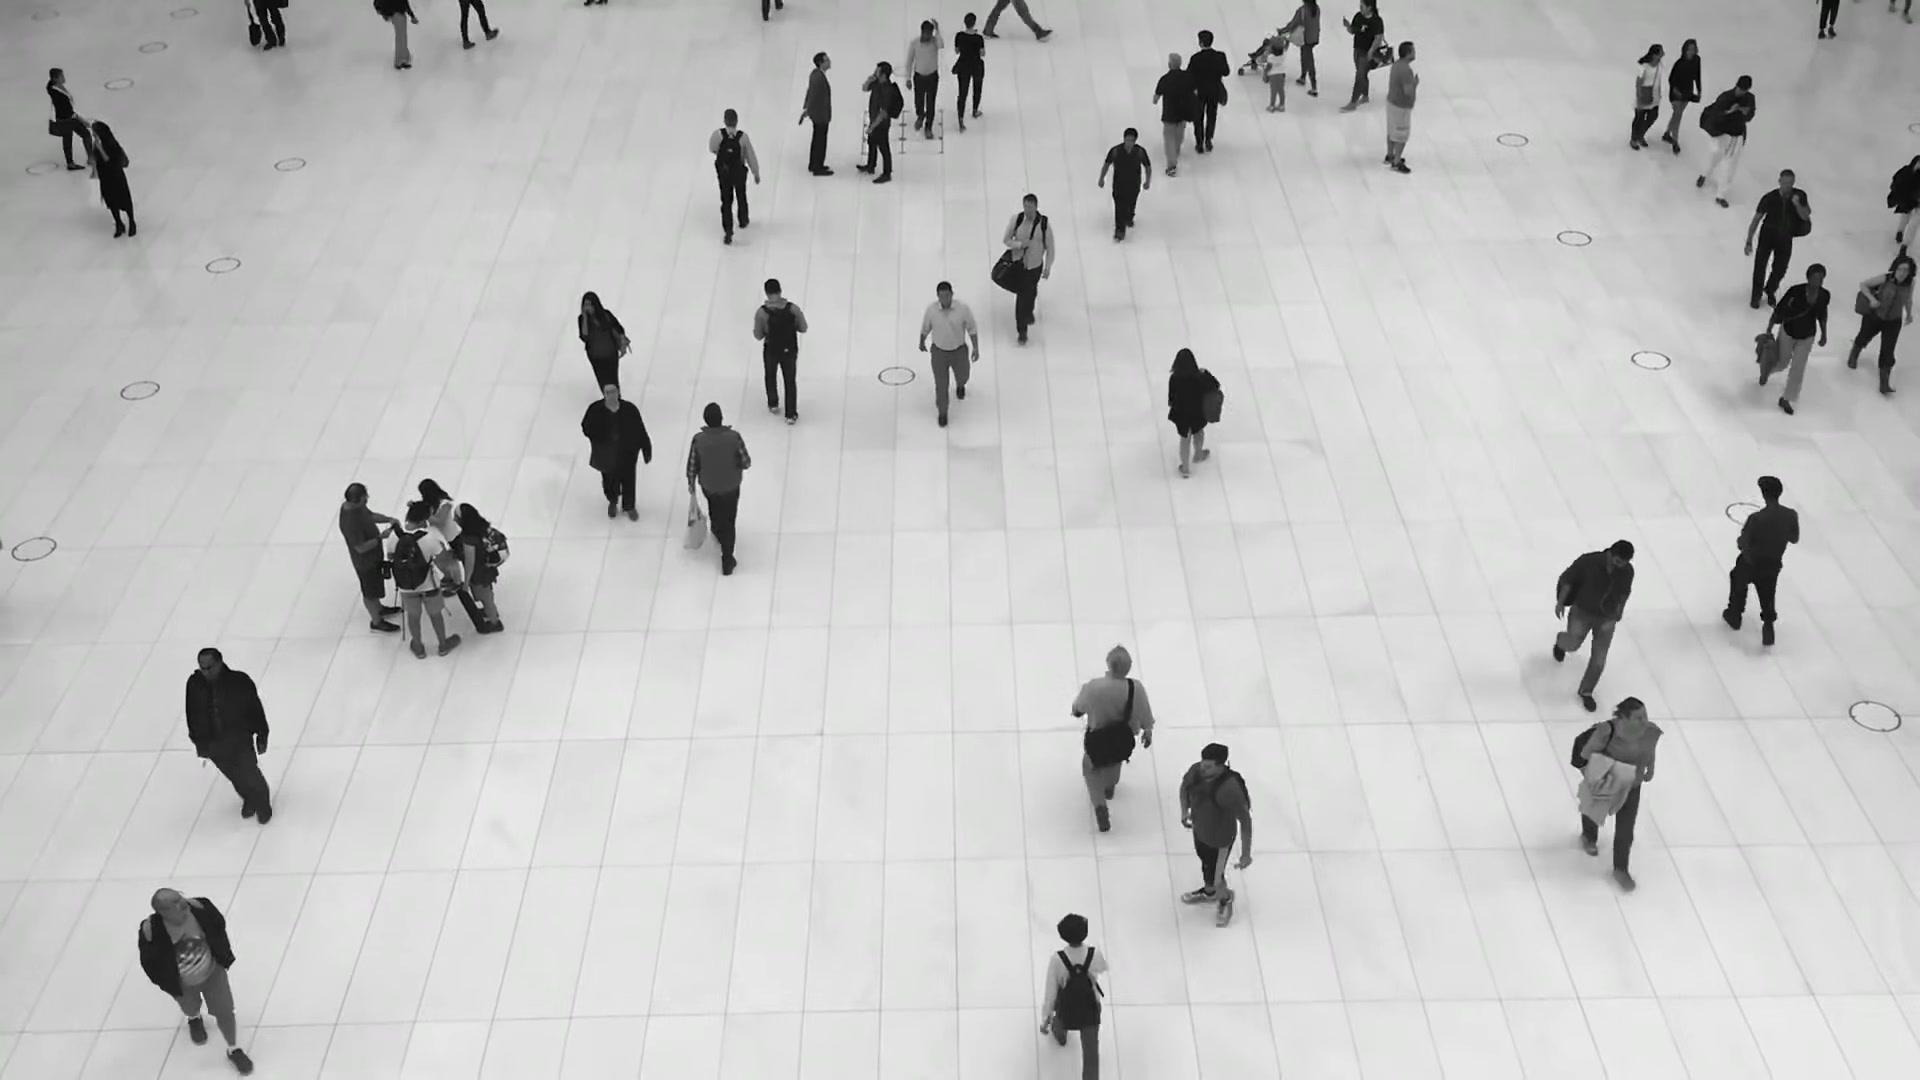person: (136, 885, 253, 1071), (1569, 696, 1661, 884), (186, 647, 274, 836), (1175, 742, 1259, 927), (1070, 645, 1154, 828), (1554, 537, 1634, 706), (1723, 474, 1801, 640), (1039, 913, 1111, 1080), (385, 502, 460, 659), (685, 403, 751, 575), (1759, 260, 1831, 415), (580, 378, 651, 528), (1846, 254, 1916, 395), (1745, 169, 1811, 313), (337, 482, 400, 633), (919, 278, 979, 424), (752, 279, 807, 427), (1697, 73, 1755, 207), (1002, 192, 1054, 340), (1166, 350, 1222, 483), (454, 502, 508, 635), (707, 107, 759, 242), (1098, 125, 1151, 239), (856, 61, 903, 184), (1152, 52, 1199, 175), (1186, 30, 1230, 157), (577, 290, 630, 397), (90, 120, 136, 239), (1382, 40, 1420, 174), (417, 478, 459, 598), (1658, 38, 1701, 151), (1341, 0, 1384, 112), (44, 68, 90, 171), (904, 18, 944, 138), (798, 51, 834, 177), (1627, 43, 1666, 151), (952, 11, 985, 131), (1282, 0, 1320, 96), (1262, 35, 1287, 112)
